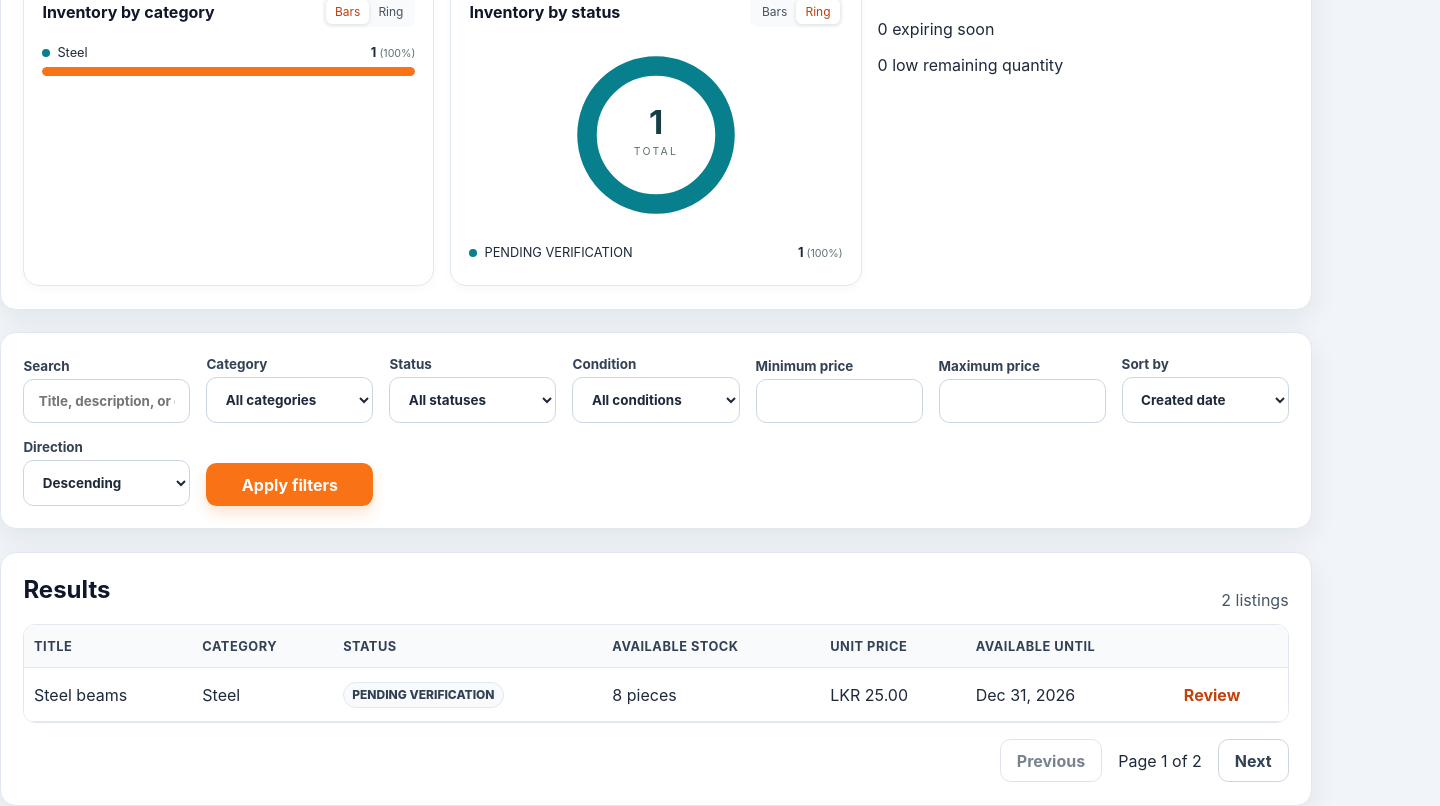
Test: manager Material UI › applies search and sorting filters and loads the next page
(page scrolled)
expect the text "Steel beams" is shown: met, box [24,668,193,722]
Type "steel" into the field labelled "Search".
click(107, 401); type("steel")  # box [23,379,190,423]
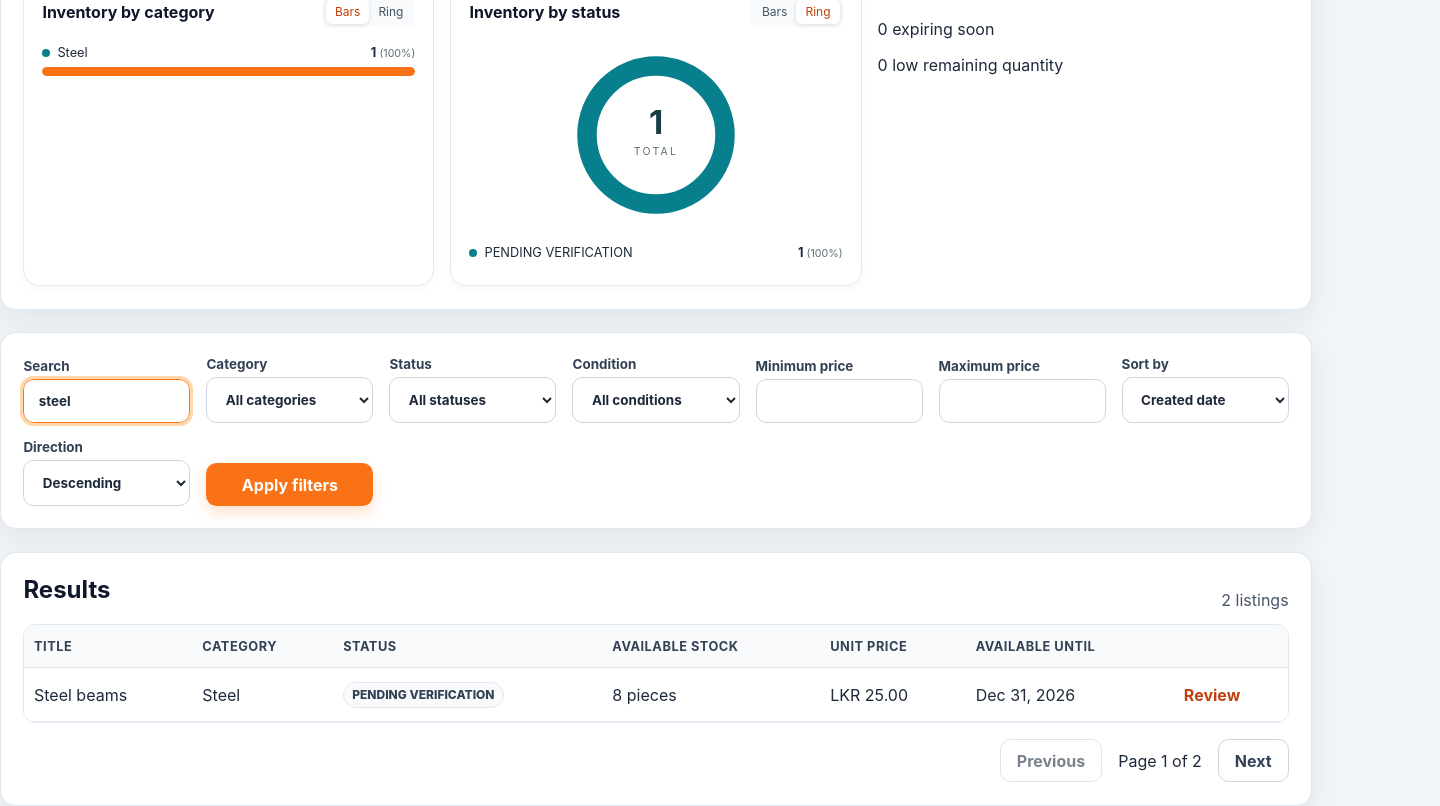
Select "Unit price" in the dropdown labelled "Sort by" at (1205, 400), box [1122,377,1289,423]
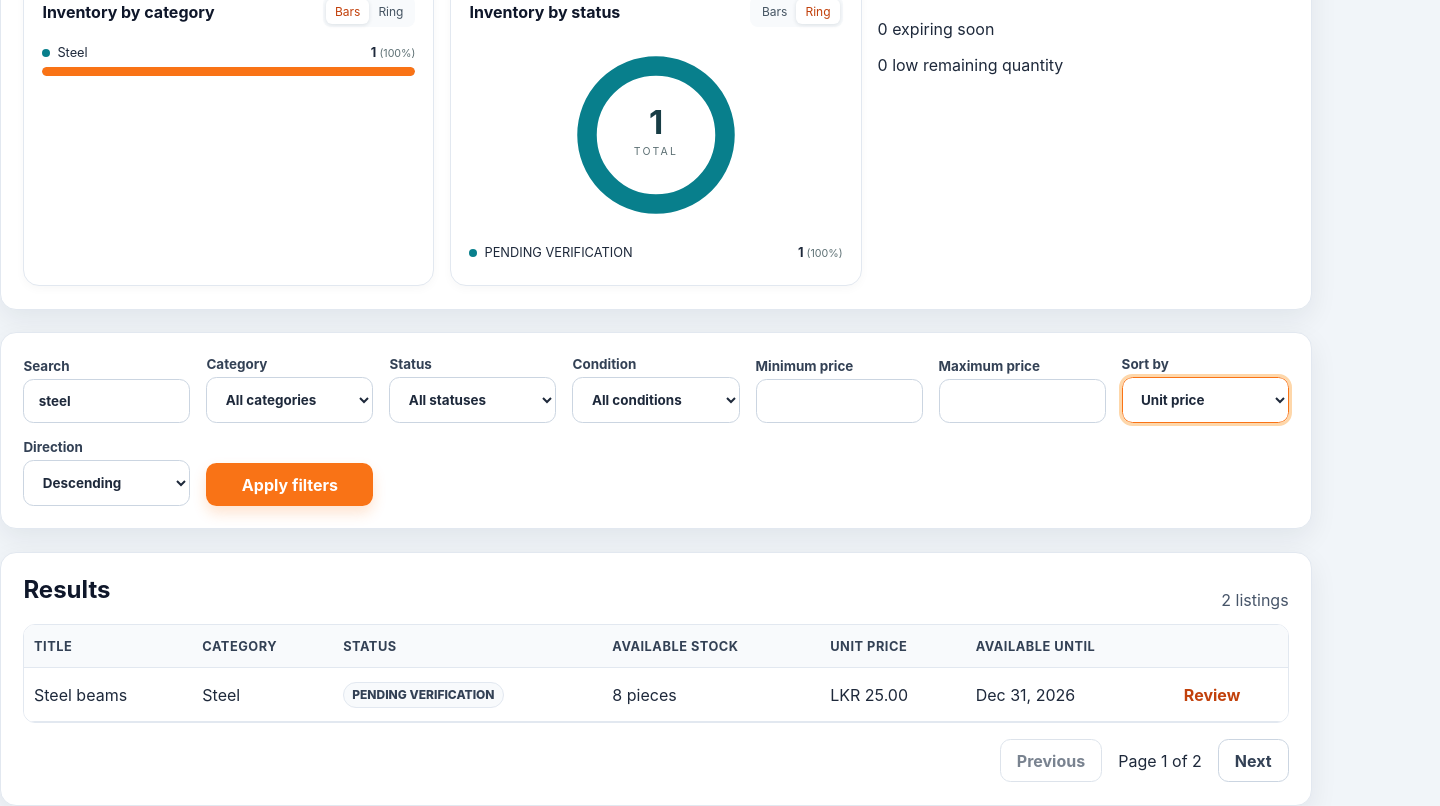
Select "Ascending" in the dropdown labelled "Direction" at (107, 483), box [23,460,190,506]
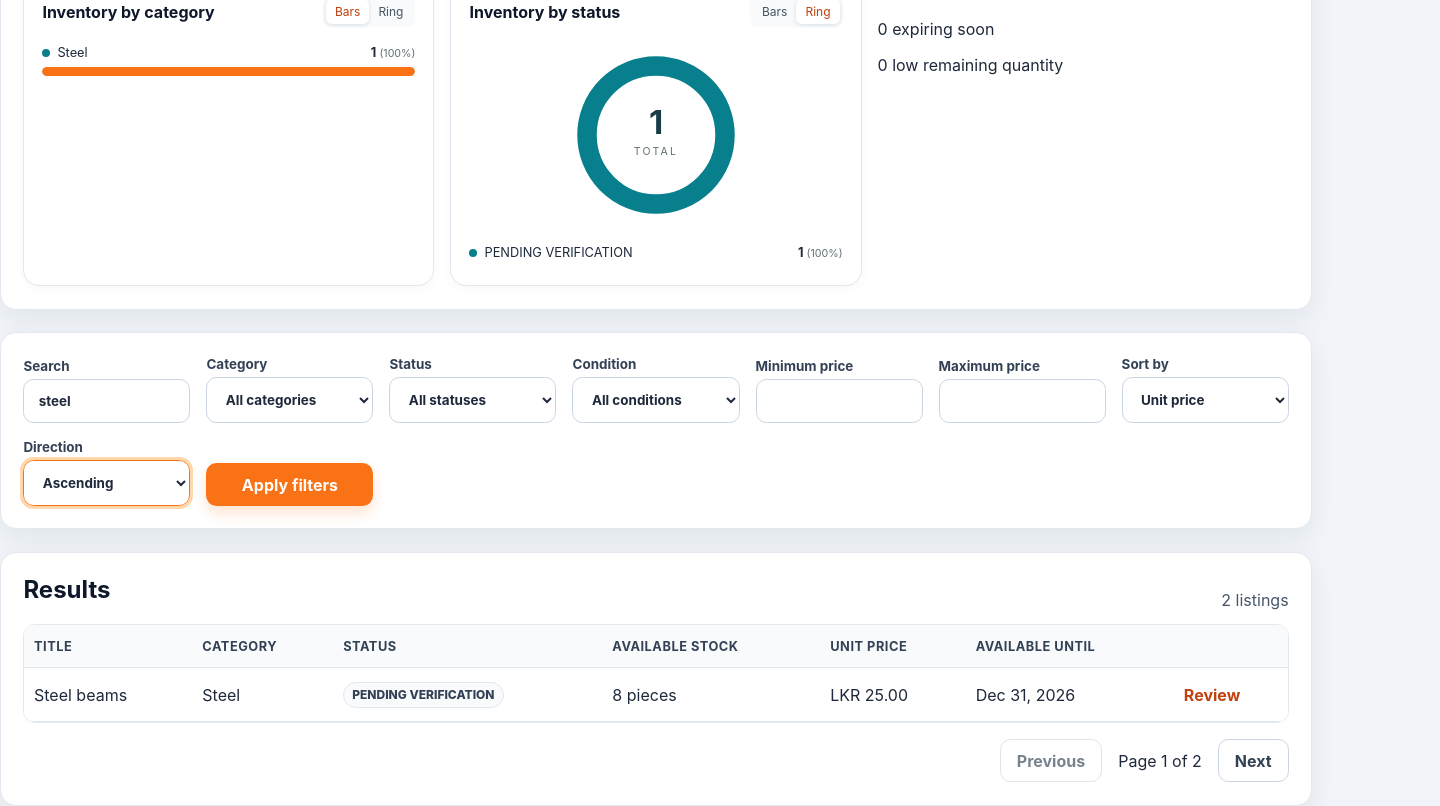
Click the button "Apply filters".
click(290, 485)  # box [206,463,373,506]
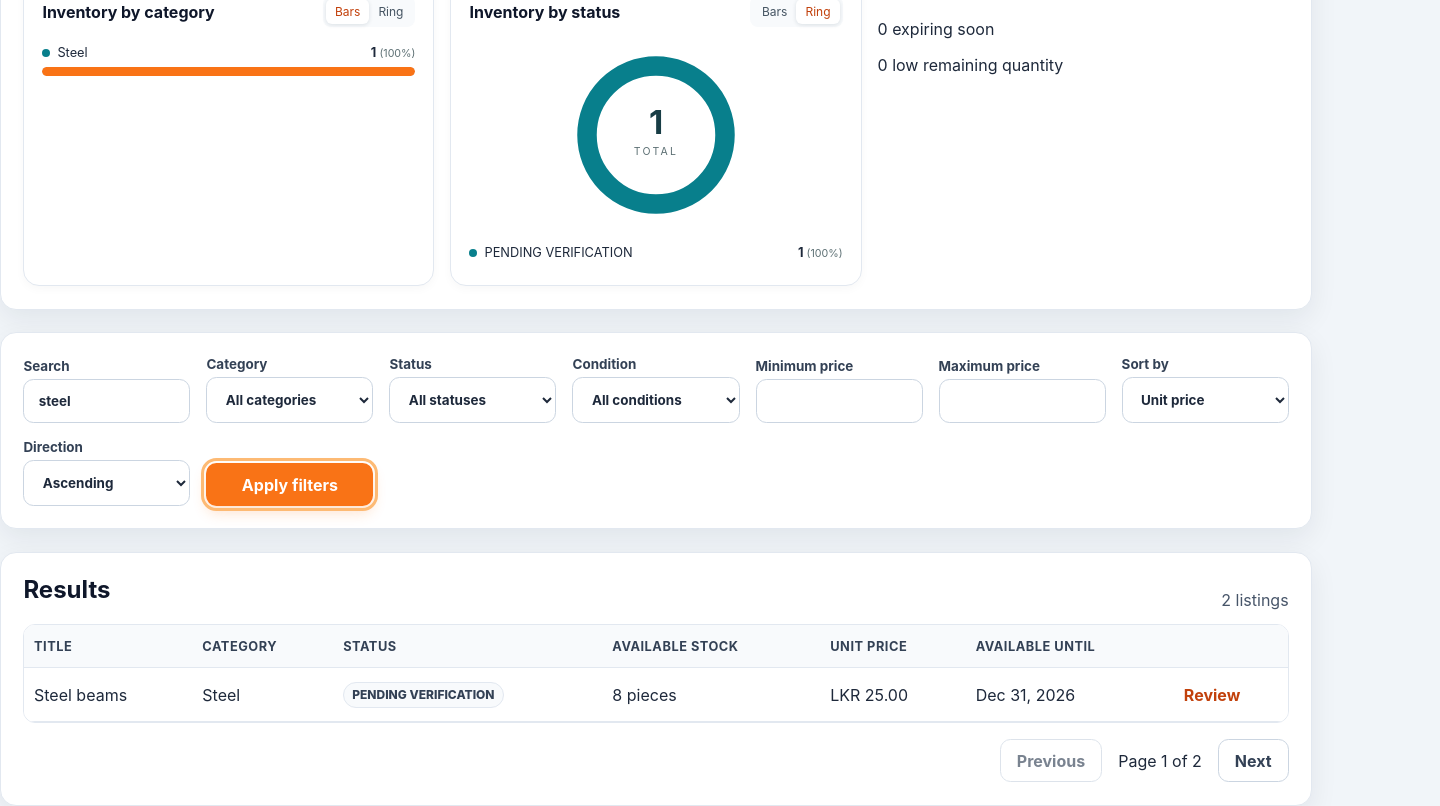
Click the button "Next".
click(1253, 761)  # box [1218,739,1289,782]
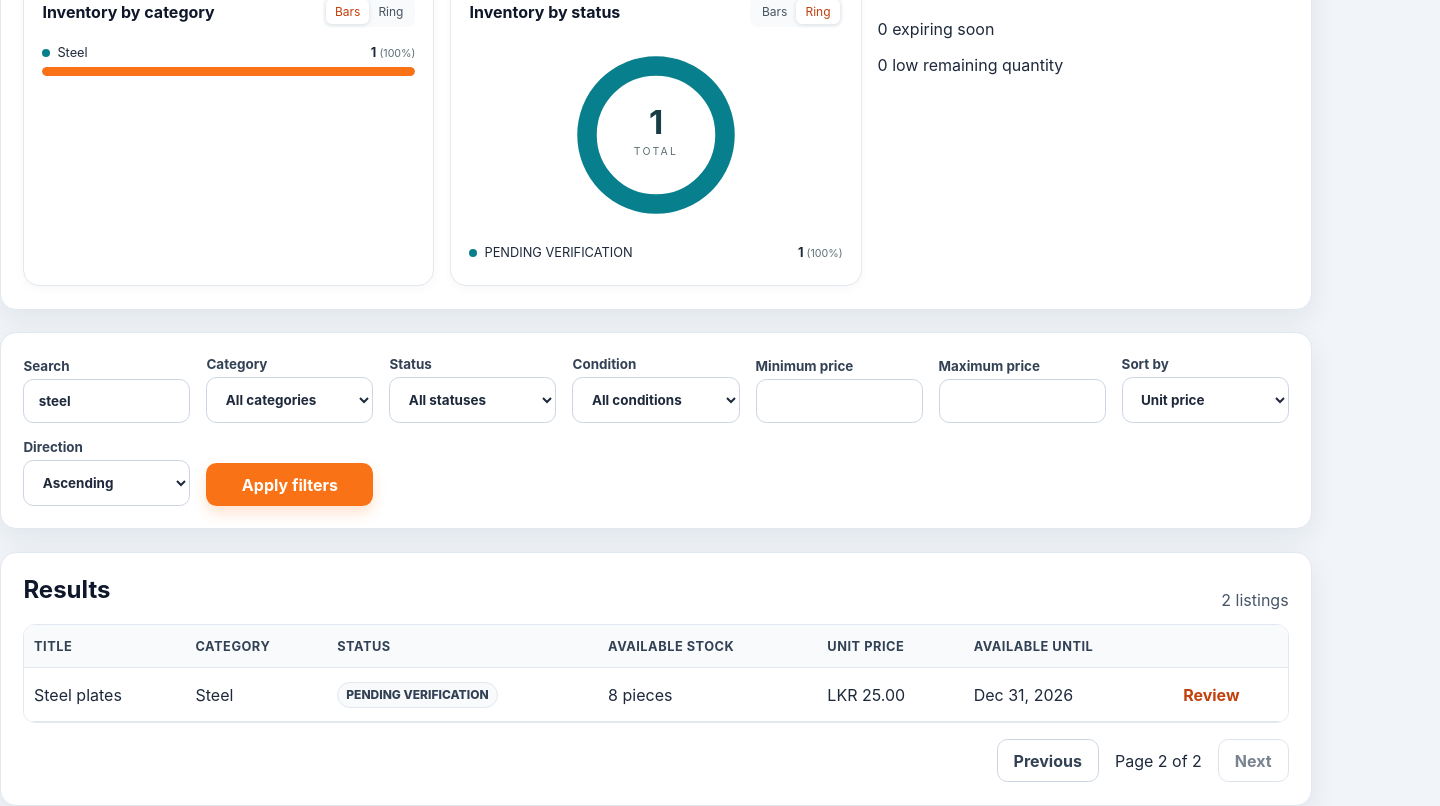
expect the text "Steel plates" is shown: met, box [24,668,186,722]
